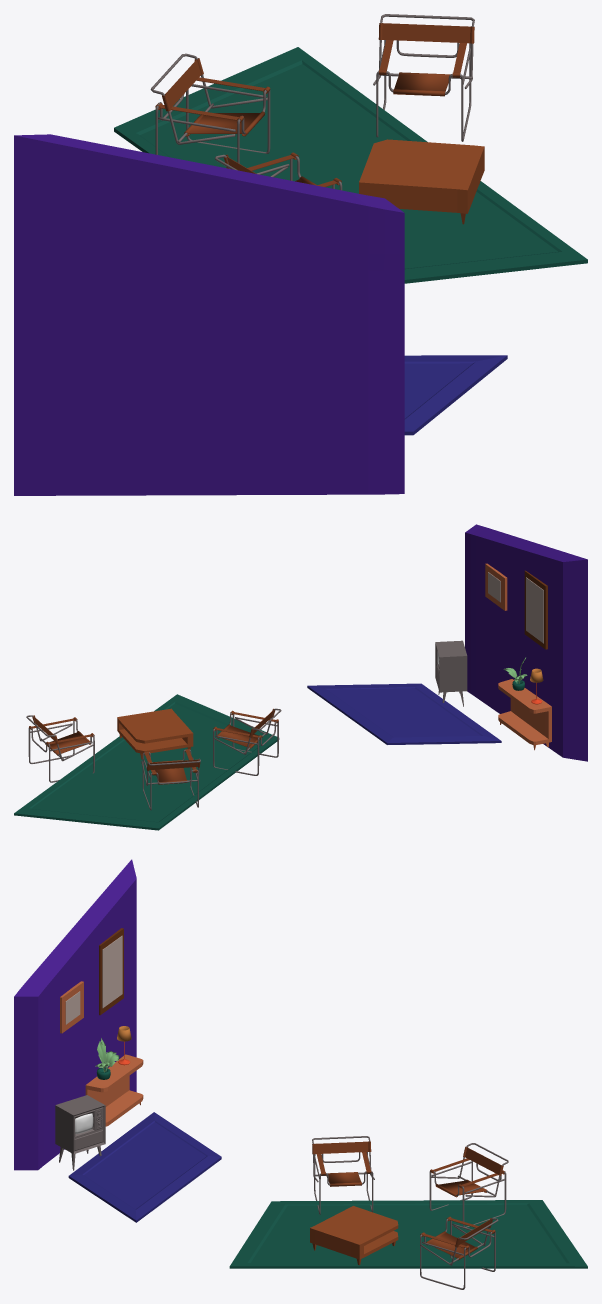
The model's file is MDL_Furniture_Rearranged_01 (1).fbx.
3 renders of one model, top to bottom at view 1: azimuth 30°, elevation 25°; view 2: azimuth 150°, elevation 25°; view 3: azimuth 270°, elevation 25°, orthographic. The views are drawn at different scales.
Parts seen in each view (by area): view 1: MDL_Living_Wall_03, MDL_Living_Carpet_01, MDL_Living_Table_02, MDL_Living_Carpet_02.001, MDL_Living_Chair_Leather_03, MDL_Living_Chair_Leather_02, MDL_Living_Chair_Metal_02, MDL_Living_Chair_Metal_03, MDL_Living_Chair_Leather_01; view 2: MDL_Living_Wall_03, MDL_Living_Carpet_01, MDL_Living_Carpet_02.001, MDL_Living_Table_02, MDL_Living_Shelf_02, MDL_Living_TV_Box, MDL_Living_Chair_Metal_01, MDL_Living_Canvas_04, MDL_Living_Chair_Leather_02, MDL_Living_Chair_Metal_03, MDL_Living_Chair_Leather_01, MDL_Living_Chair_Leather_03 (+3 smaller); view 3: MDL_Living_Wall_03, MDL_Living_Carpet_01, MDL_Living_Carpet_02.001, MDL_Living_Table_02, MDL_Living_TV_Box, MDL_Living_Shelf_02, MDL_Living_Chair_Leather_01, MDL_Living_Canvas_04, MDL_Living_Chair_Leather_02, MDL_Living_Chair_Metal_02, MDL_Living_Chair_Metal_03, MDL_Living_Chair_Leather_03 (+3 smaller).
Boxes of the visible parts, x1,y1,x2,y2 form: MDL_Living_Wall_03: (14,134,404,495); MDL_Living_Carpet_01: (114,47,587,283); MDL_Living_Table_02: (359,139,484,224); MDL_Living_Carpet_02.001: (404,355,507,435); MDL_Living_Chair_Leather_03: (378,23,474,96); MDL_Living_Chair_Leather_02: (155,58,270,136); MDL_Living_Chair_Metal_02: (150,53,270,163); MDL_Living_Chair_Metal_03: (373,14,474,141); MDL_Living_Chair_Leather_01: (224,152,341,186); MDL_Living_Wall_03: (465,524,587,761); MDL_Living_Carpet_01: (14,694,279,830); MDL_Living_Carpet_02.001: (307,683,501,744); MDL_Living_Table_02: (117,708,193,759); MDL_Living_Shelf_02: (498,679,551,750); MDL_Living_TV_Box: (435,640,467,706); MDL_Living_Chair_Metal_01: (213,708,281,775); MDL_Living_Canvas_04: (526,577,543,643); MDL_Living_Chair_Leather_02: (144,749,200,784); MDL_Living_Chair_Metal_03: (26,715,94,782); MDL_Living_Chair_Leather_01: (213,708,278,749); MDL_Living_Chair_Leather_03: (29,715,94,755); MDL_Living_Wall_03: (14,859,136,1170); MDL_Living_Carpet_01: (229,1200,587,1268); MDL_Living_Carpet_02.001: (68,1112,221,1222); MDL_Living_Table_02: (310,1206,398,1265); MDL_Living_TV_Box: (55,1095,105,1170); MDL_Living_Shelf_02: (85,1054,143,1126); MDL_Living_Chair_Leather_01: (312,1141,371,1186); MDL_Living_Canvas_04: (102,935,122,1008); MDL_Living_Chair_Leather_02: (430,1146,505,1197); MDL_Living_Chair_Metal_02: (429,1143,508,1227); MDL_Living_Chair_Metal_03: (420,1218,498,1289); MDL_Living_Chair_Leather_03: (420,1216,495,1260).
Bounding box in the file's own units: 751 × 354 × 829.
